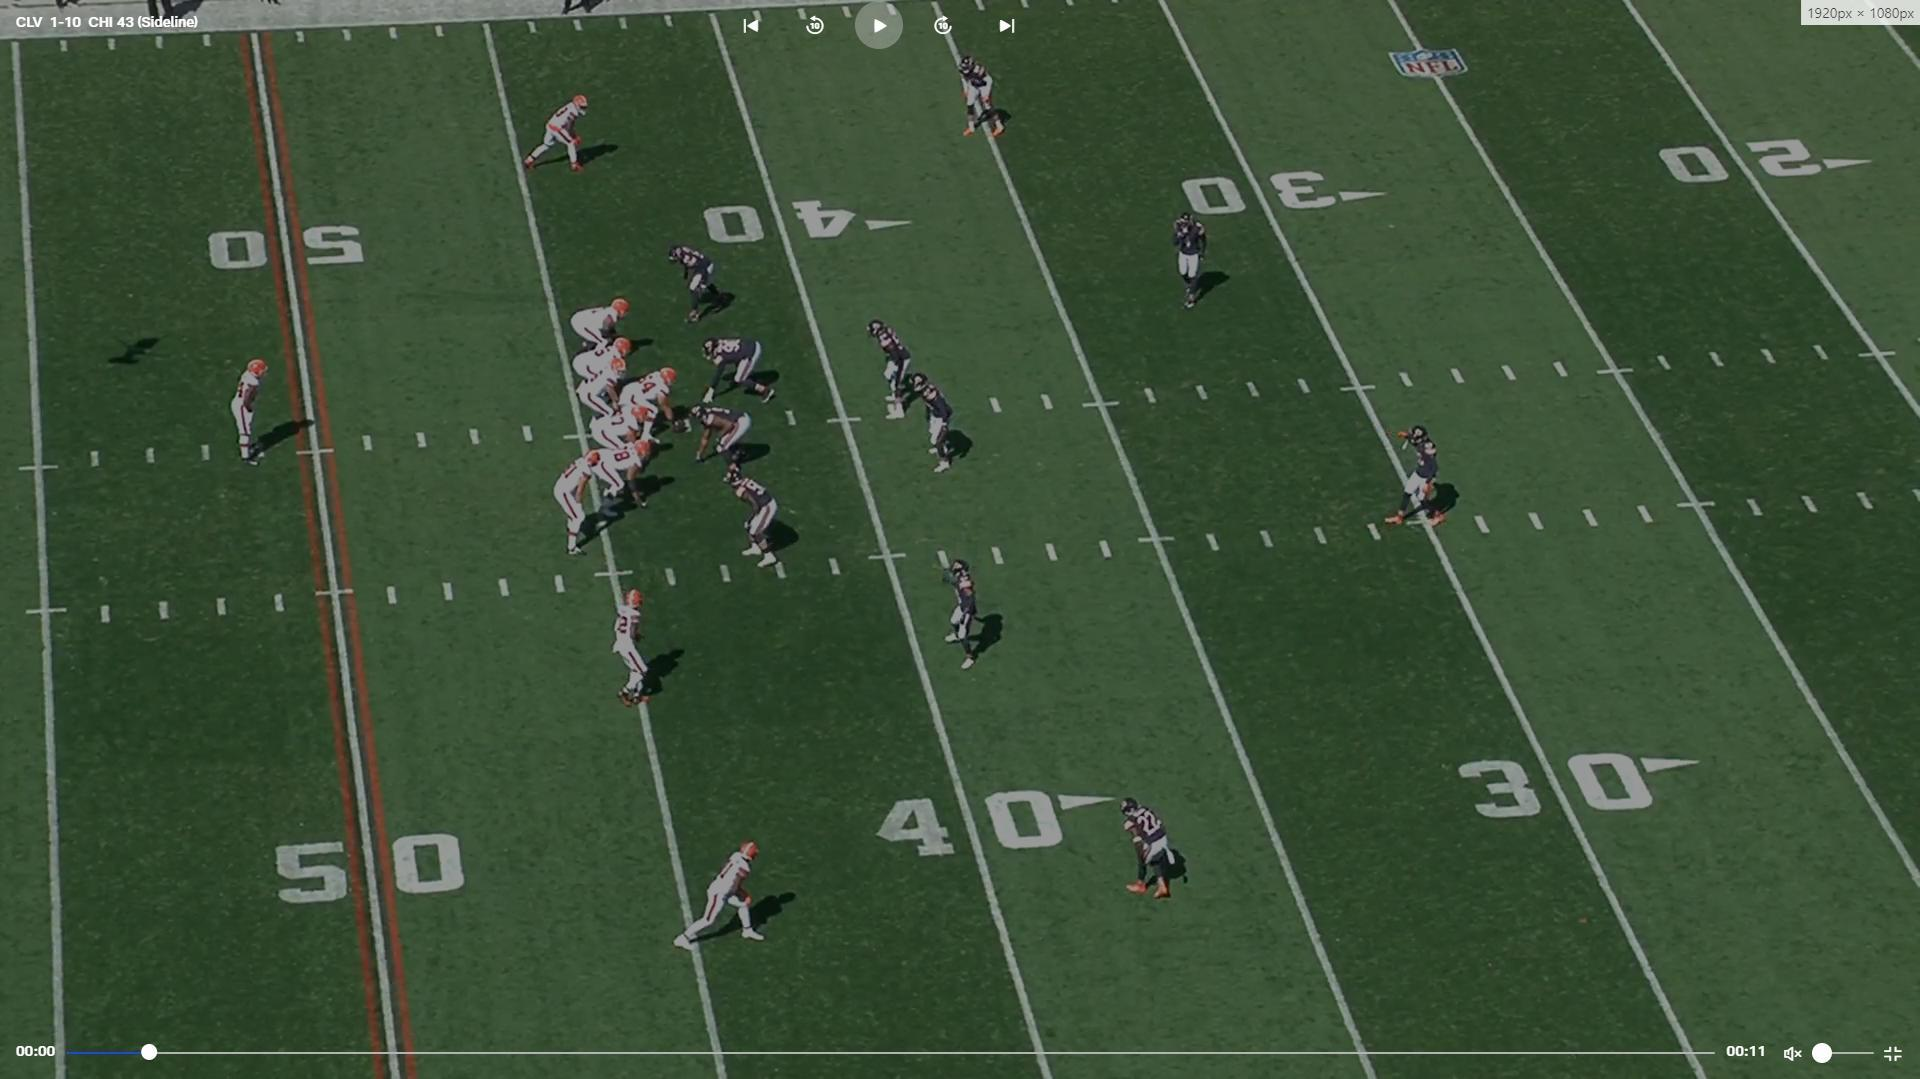player: (676, 836, 775, 955), (1119, 792, 1189, 905), (1382, 422, 1448, 533), (610, 583, 665, 712), (725, 465, 791, 567), (520, 91, 596, 178), (911, 368, 967, 479), (550, 446, 606, 556), (940, 553, 991, 673), (697, 332, 778, 405), (666, 241, 734, 326), (619, 361, 687, 440), (693, 406, 767, 478), (863, 315, 912, 422), (225, 357, 271, 469), (569, 346, 622, 443), (955, 55, 1009, 148), (594, 441, 657, 518), (1170, 208, 1212, 312), (570, 297, 632, 353), (576, 336, 641, 389), (593, 407, 658, 455)
